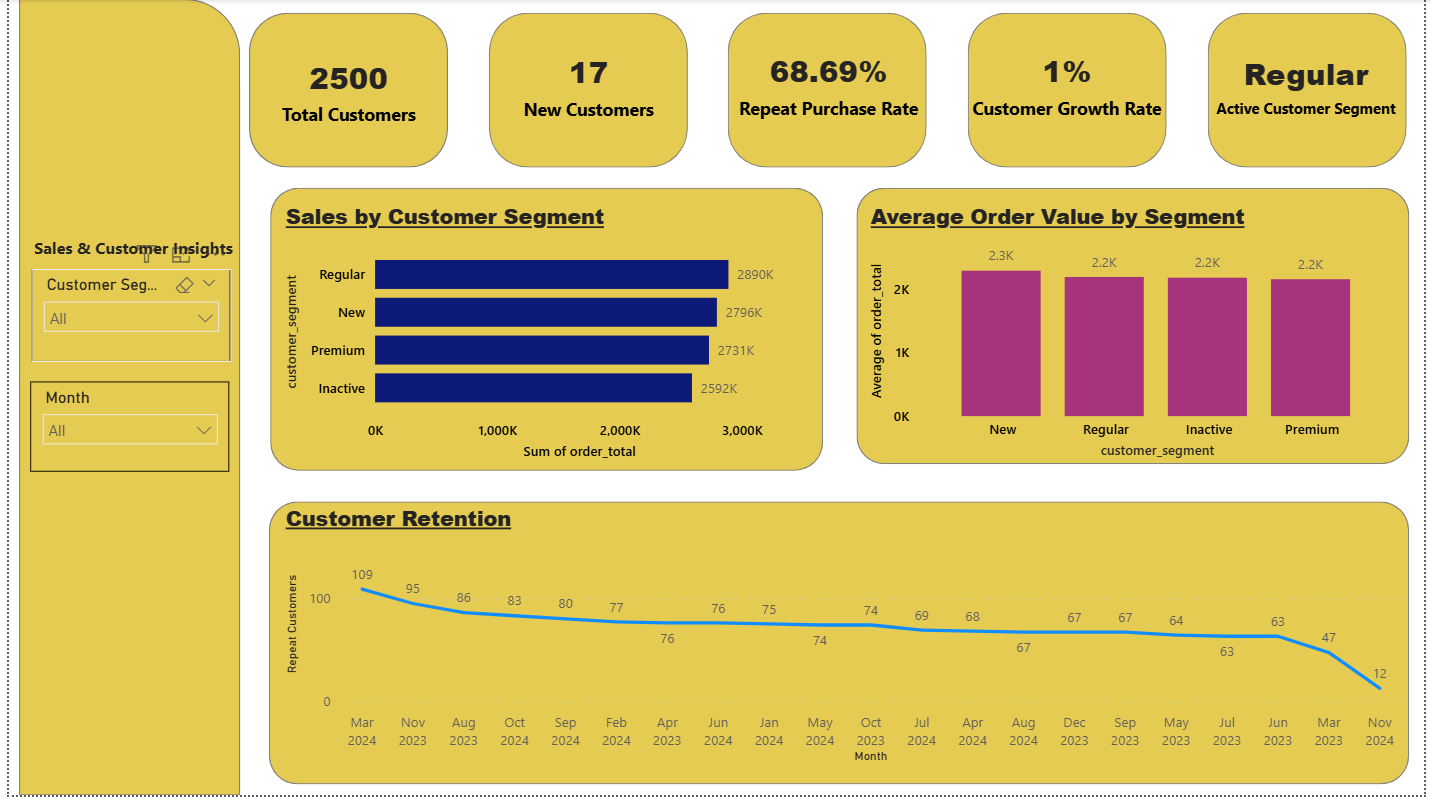

Layout of this report page (visuals, bound fields, positions):
{"tool":"powerbi","page":{"name":"Sales & Customer Insights","canvas":[1280,720],"ordinal":1},"visuals":[{"type":"shape","box":[236,170.9,500,256],"z":0},{"type":"shape","box":[1084.1,12.4,179.8,140],"z":1000},{"type":"shape","box":[867.3,12.4,179.8,140],"z":2000},{"type":"shape","box":[650.6,12.4,179.8,140],"z":3000},{"type":"shape","box":[433.8,12.4,179.8,140],"z":4000},{"type":"shape","box":[9.6,0,200,720.4],"z":5000},{"type":"shape","box":[216.8,12.3,180,140],"z":6000},{"type":"textbox","box":[9.4,210,207.3,33.7],"z":7000},{"type":"card","title":"Total Customers","fields":{"Values":["blinkit_customers.Total Customers"]},"box":[223.7,35.7,167.4,93.3],"z":8000},{"type":"card","title":"Total Customers","fields":{"Values":["blinkit_customers.Customer Growth Rate"]},"box":[850.8,17.8,214.1,118],"z":9000},{"type":"card","title":"Total Customers","fields":{"Values":["blinkit_customers.New Customers"]},"box":[425.9,24.4,196.7,105.8],"z":10000},{"type":"card","title":"Total Customers","fields":{"Values":["blinkit_customers.Repeat Purchase Rate"]},"box":[633.4,17.6,217,118],"z":11000},{"type":"card","title":"Total Customers","fields":{"Values":["blinkit_customers.Active Customer Segment"]},"box":[1083.6,24.4,180.4,105.8],"z":12000},{"type":"barChart","title":"Sales by Customer Segment","fields":{"Category":["blinkit_customers.customer_segment"],"Y":["Sum(blinkit_orders.order_total)"]},"box":[245.5,183.1,480.1,238.7],"z":13000},{"type":"shape","box":[766.3,170.9,500,250],"z":14000},{"type":"shape","box":[235.6,455,1031.2,255.8],"z":16000},{"type":"clusteredColumnChart","title":"Average Order Value by Segment","fields":{"Category":["blinkit_customers.customer_segment"],"Y":["Avg(blinkit_orders.order_total)"]},"box":[774.4,183.1,484.2,237.3],"z":17000},{"type":"lineChart","title":"Customer Retention","fields":{"Category":["Calendar.Month"],"Y":["blinkit_customers.Repeat Customers"]},"box":[245.5,455.7,1021.2,240.1],"z":18000},{"type":"slicer","fields":{"Values":["Calendar.Month"]},"box":[19,345.8,180.4,81.4],"z":20000},{"type":"slicer","fields":{"Values":["blinkit_customers.customer_segment"]},"box":[20.3,244.1,180.4,84.1],"z":21000}]}

Visuals, with their boxes in screenshot pixels (x1, y1, x2, y2), scaled from the page's 1280x720 canvas onto the 1431x797 screenshot:
shape: bbox=[264, 189, 823, 473]
shape: bbox=[1212, 14, 1413, 169]
shape: bbox=[970, 14, 1171, 169]
shape: bbox=[727, 14, 928, 169]
shape: bbox=[485, 14, 686, 169]
shape: bbox=[11, 0, 234, 796]
shape: bbox=[242, 14, 444, 169]
textbox: bbox=[11, 232, 242, 270]
"Total Customers" card: bbox=[250, 40, 437, 143]
"Total Customers" card: bbox=[951, 20, 1191, 150]
"Total Customers" card: bbox=[476, 27, 696, 144]
"Total Customers" card: bbox=[708, 19, 951, 150]
"Total Customers" card: bbox=[1211, 27, 1413, 144]
"Sales by Customer Segment" barChart: bbox=[274, 203, 811, 467]
shape: bbox=[857, 189, 1416, 466]
shape: bbox=[263, 504, 1416, 787]
"Average Order Value by Segment" clusteredColumnChart: bbox=[866, 203, 1407, 465]
"Customer Retention" lineChart: bbox=[274, 504, 1416, 770]
slicer - Calendar.Month: bbox=[21, 383, 223, 473]
slicer - blinkit_customers.customer_segment: bbox=[23, 270, 224, 363]
